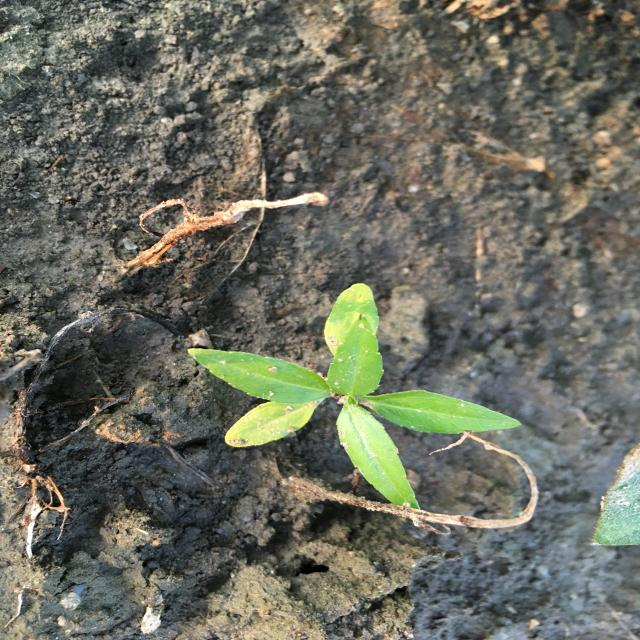Eclipta: (185, 282, 524, 518)
